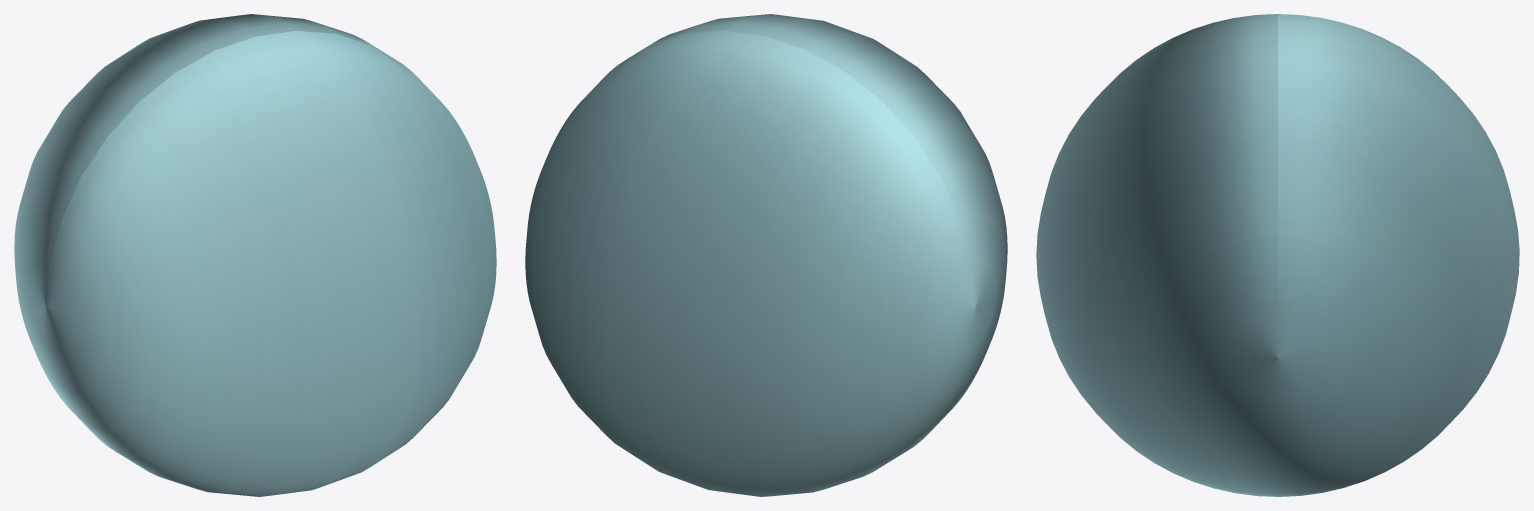
File: uranusBuilt.obj
The picture shows the model from 3 angles, left to right: view 1: azimuth 30°, elevation 25°; view 2: azimuth 150°, elevation 25°; view 3: azimuth 270°, elevation 25°; orthographic projection.
Parts seen in each view (by area): view 1: Plane; view 2: Plane; view 3: Plane.
Boxes of the visible parts, box(x1,y1,x2,y2) form: Plane: box(14, 14, 496, 496); Plane: box(525, 14, 1007, 496); Plane: box(1036, 14, 1519, 496).
Bounding box in the file's own units: 1.27 × 1.27 × 1.27.
